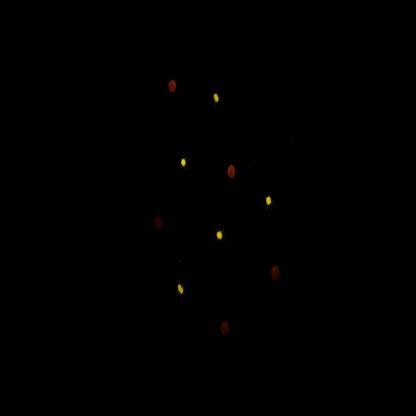PE: (175, 151, 196, 182), (174, 271, 192, 307), (209, 85, 225, 116), (214, 220, 228, 247), (263, 189, 278, 212)
PS: (218, 313, 235, 344), (225, 160, 242, 189), (268, 257, 284, 287), (166, 73, 181, 103), (153, 213, 168, 237)
